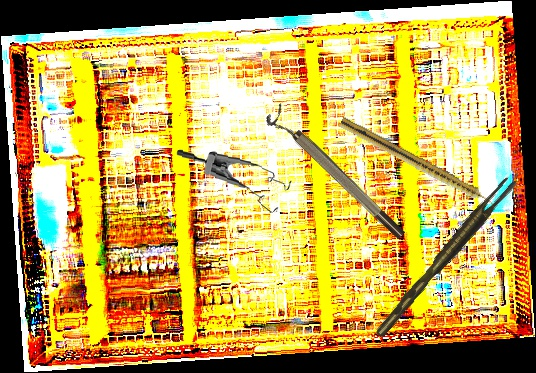Fixation Ring: (263, 102, 408, 248)
Handpiece: (336, 116, 501, 213)
Speculum: (171, 147, 295, 216)
Tissue Forceps: (367, 173, 523, 339)
